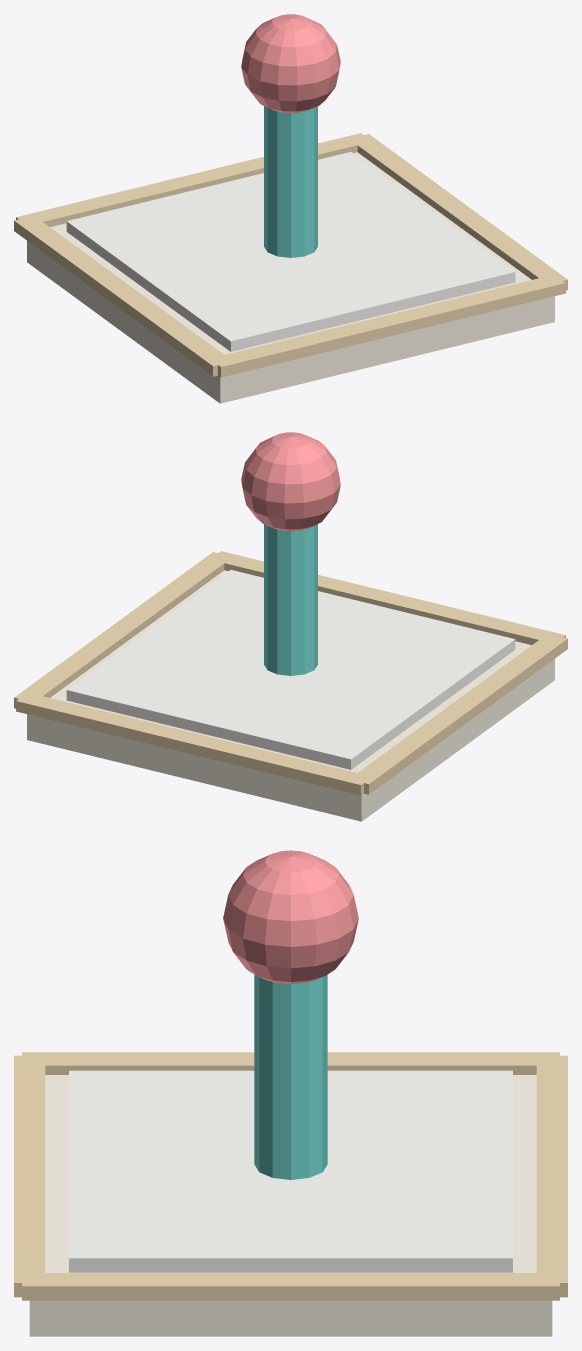
File: city.event_plaza.glb
3 views of the same model, one above another, from view 1: azimuth 30°, elevation 25°; view 2: azimuth 150°, elevation 25°; view 3: azimuth 270°, elevation 25° (orthographic). The views are drawn at different scales.
Parts seen in each view (by area): view 1: city.event_plaza; view 2: city.event_plaza; view 3: city.event_plaza.
Part boxes in pixels (x1,y1,x2,y2): city.event_plaza: (14,14,567,403); city.event_plaza: (14,432,567,821); city.event_plaza: (14,850,567,1336).
Size of the model in its own units: 2.12 by 1.56 by 2.12.
